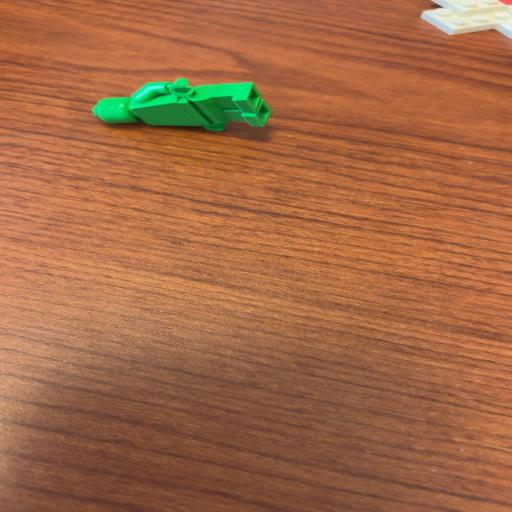UnoQ-minifig-detector: (94, 79, 270, 131)
